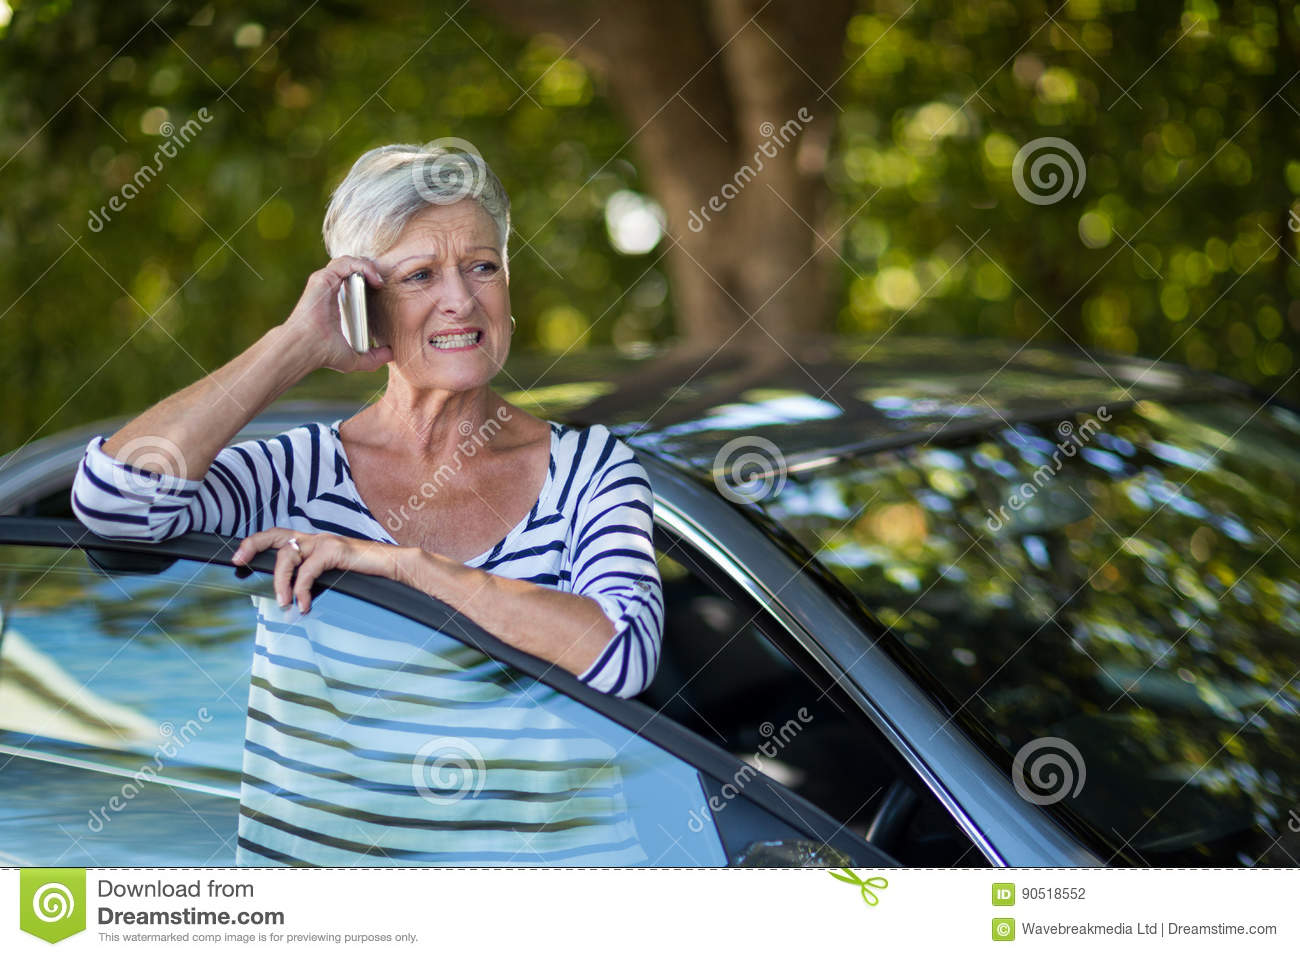phone: (327, 264, 380, 368)
talk: (293, 244, 509, 398)
